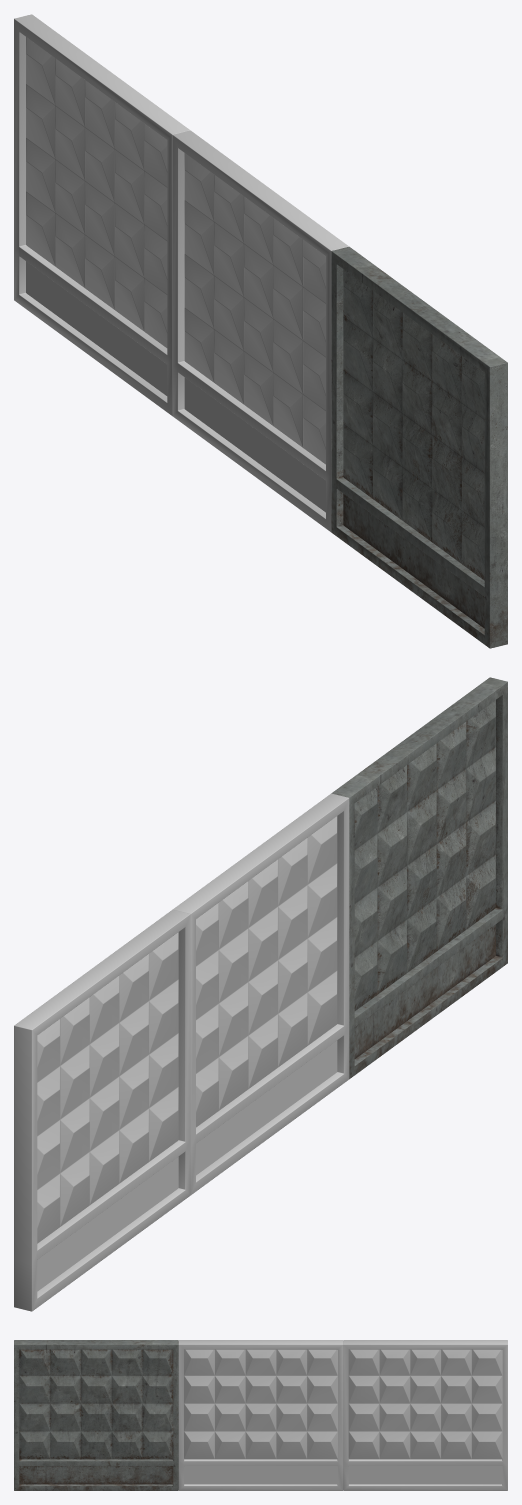
Rendered from fence.obj.
The picture shows the model from 3 angles, top to bottom: view 1: azimuth 30°, elevation 25°; view 2: azimuth 150°, elevation 25°; view 3: azimuth 270°, elevation 25°; orthographic projection. The views are drawn at different scales.
Parts seen in each view (by area): view 1: concrete_fence_concrete_fence_0, concrete_fence.001_concrete_fence.001_0, concrete_fence.002_concrete_fence.002_0; view 2: concrete_fence.002_concrete_fence.002_0, concrete_fence.001_concrete_fence.001_0, concrete_fence_concrete_fence_0; view 3: concrete_fence.001_concrete_fence.001_0, concrete_fence_concrete_fence_0, concrete_fence.002_concrete_fence.002_0.
Part boxes in pixels (bbox=[...]): concrete_fence_concrete_fence_0: bbox=[331, 246, 507, 648]; concrete_fence.001_concrete_fence.001_0: bbox=[172, 130, 348, 531]; concrete_fence.002_concrete_fence.002_0: bbox=[14, 14, 190, 415]; concrete_fence.002_concrete_fence.002_0: bbox=[14, 909, 190, 1311]; concrete_fence.001_concrete_fence.001_0: bbox=[173, 793, 349, 1194]; concrete_fence_concrete_fence_0: bbox=[331, 677, 507, 1078]; concrete_fence.001_concrete_fence.001_0: bbox=[178, 1340, 343, 1490]; concrete_fence_concrete_fence_0: bbox=[14, 1340, 178, 1490]; concrete_fence.002_concrete_fence.002_0: bbox=[343, 1340, 507, 1490].
Size of the model in its own units: 0.2 by 2.94 by 9.
